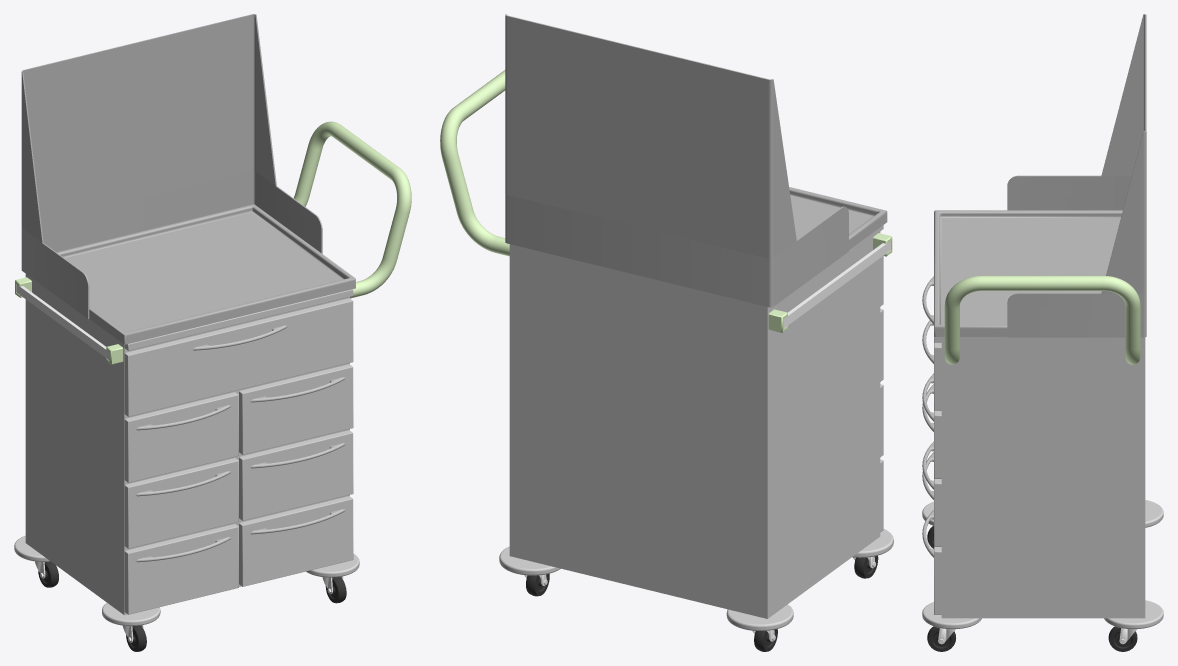
File: mailbox1.dae
3 renders of one model, left to right at view 1: azimuth 30°, elevation 25°; view 2: azimuth 150°, elevation 25°; view 3: azimuth 270°, elevation 25°, orthographic. The views are drawn at different scales.
Visible parts, largest first — view 1: group_6 (×6), group_5, group_0, group_1 (×2), group_7, group_4, Komponente_5 (×2), group_3, Komponente_2 (×2), group_2; view 2: group_0, group_5, group_4, Komponente_5, group_1 (×2), Komponente_2 (×2), group_2; view 3: group_0, group_1 (×2), group_4, group_5, Komponente_5 (×2), Komponente_2 (×3), group_6 (×3), group_7.
Part boxes in pixels (x1,y1,x2,y2): group_6 (×6): (124,364,353,614); group_5: (21,14,276,243); group_0: (25,274,349,614); group_1 (×2): (57,204,355,344); group_7: (124,298,353,416); group_4: (21,171,322,318); Komponente_5 (×2): (294,121,411,298); group_3: (124,289,353,350); Komponente_2 (×2): (102,553,359,626); group_2: (16,284,109,360); group_0: (509,227,880,618); group_5: (505,14,796,258); group_4: (505,194,848,307); Komponente_5: (440,82,509,256); group_1 (×2): (789,187,887,249); Komponente_2 (×2): (499,546,793,630); group_2: (784,241,890,327); group_0: (941,337,1145,618); group_1 (×2): (934,210,1122,336); group_4: (1007,175,1146,337); group_5: (1101,14,1146,293); Komponente_5 (×2): (944,275,1140,364); Komponente_2 (×3): (922,500,1163,629); group_6 (×3): (934,410,941,614); group_7: (934,342,941,410).
Bounding box in the file's own units: 38.48 × 25.12 × 60.59.
